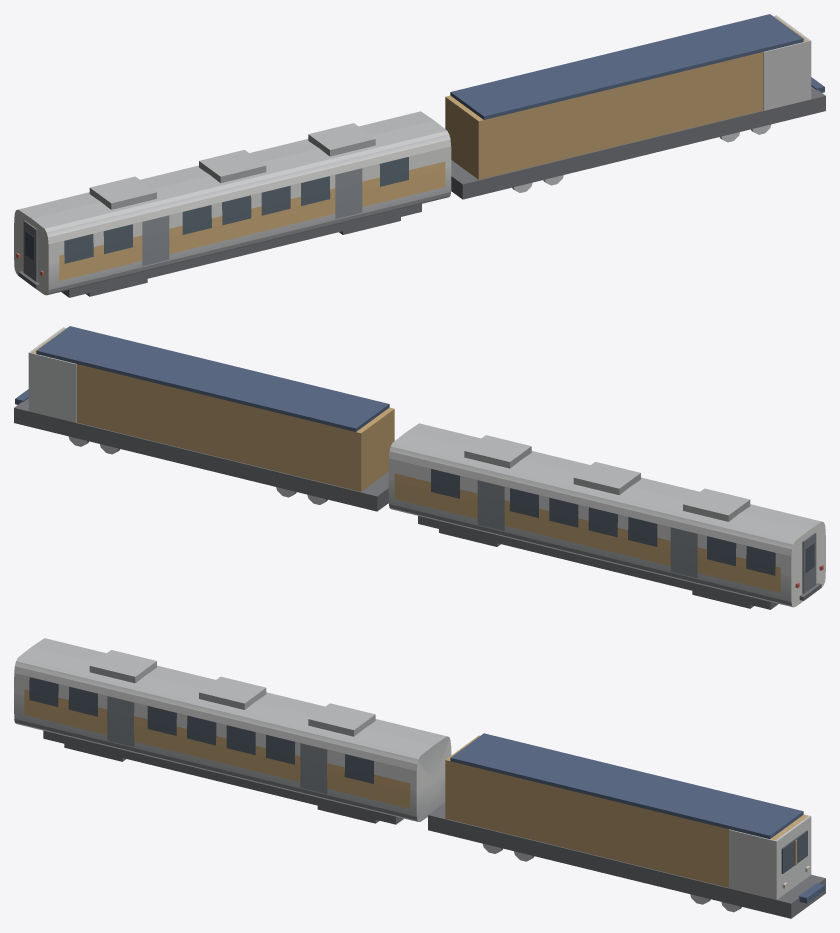
File: 01_TRA_modern_3x2-06.glb
The picture shows the model from 3 angles, top to bottom: view 1: azimuth 30°, elevation 25°; view 2: azimuth 150°, elevation 25°; view 3: azimuth 330°, elevation 25°; orthographic projection.
Bounding box in the file's own units: 37.99 × 4.06 × 2.94.
